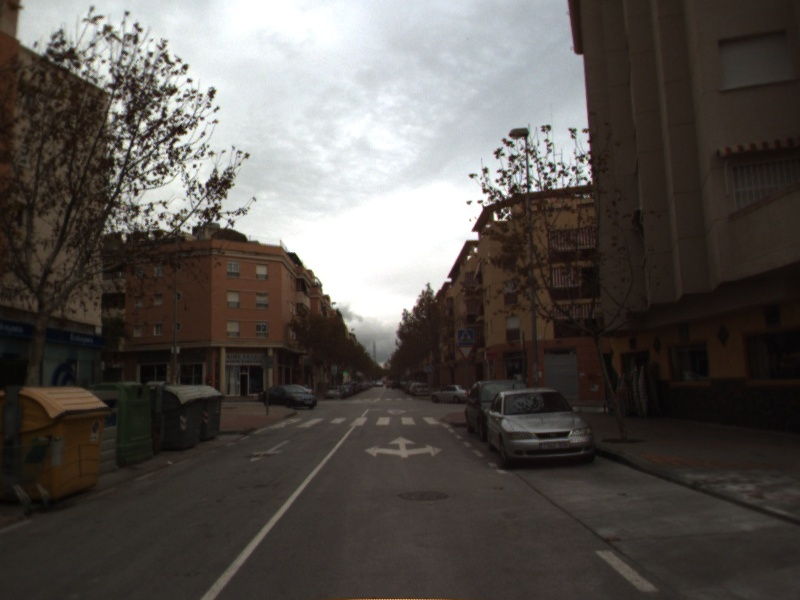STRAIGHT_LEFT_RIGHT: (363, 434, 445, 460)
